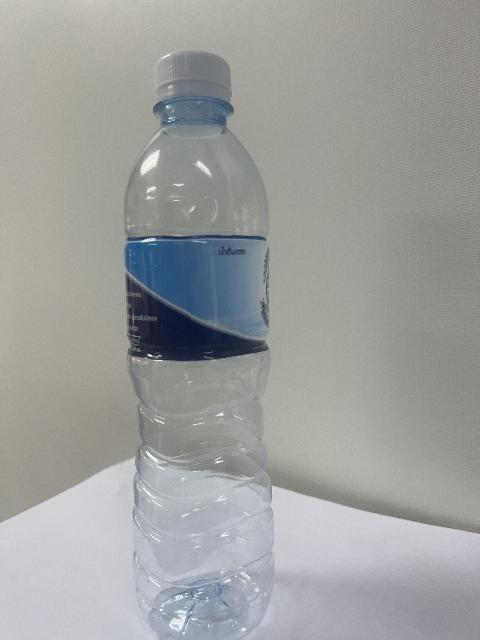bottle: (126, 52, 273, 639)
